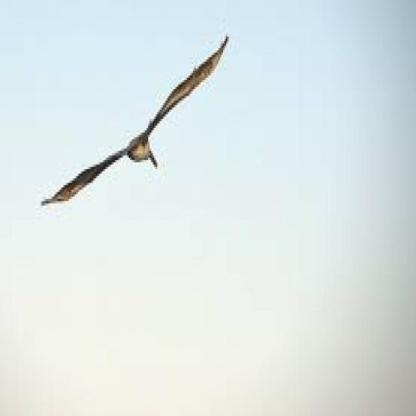bird: (23, 27, 233, 213)
